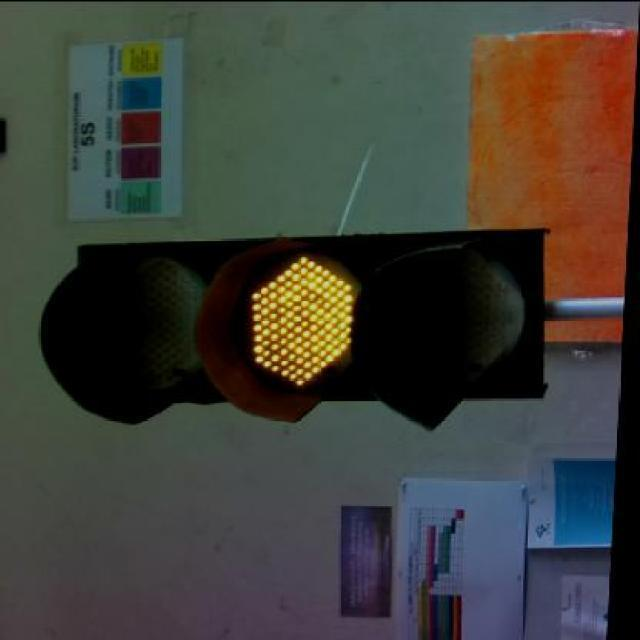yellow_light: (40, 229, 555, 429)
